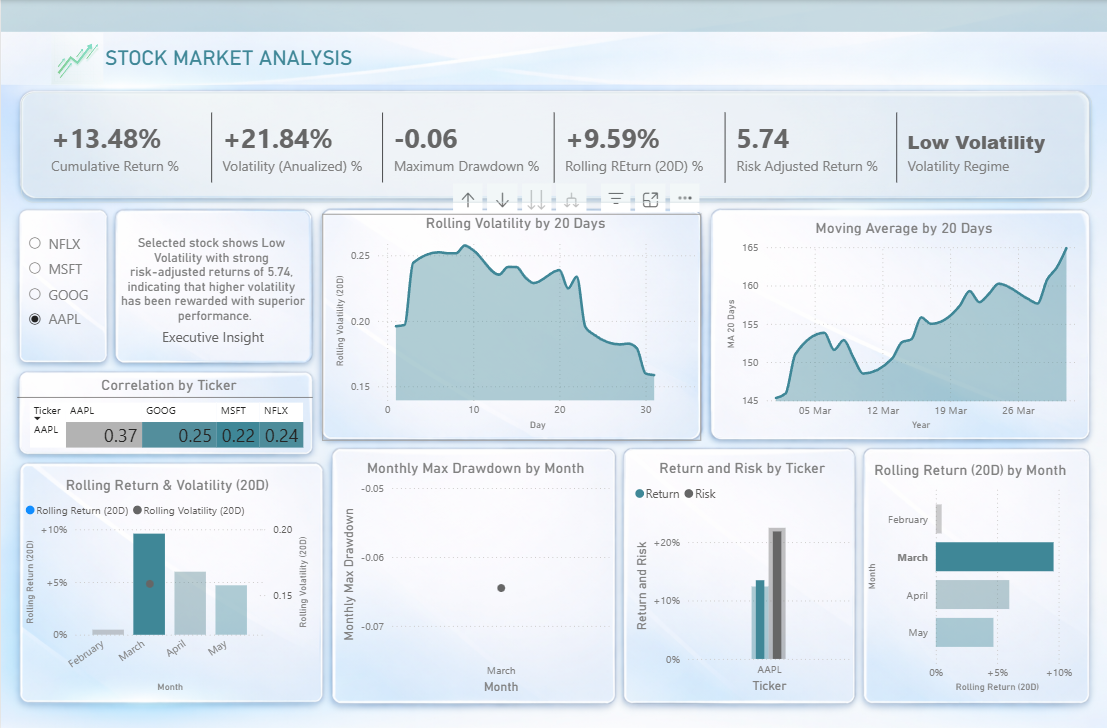

This screenshot's page, from the dashboard's own definition file:
{"tool":"powerbi","page":{"name":"Page 1","canvas":[1280,848],"ordinal":0},"visuals":[{"type":"slicer","fields":{"Values":["stocks.Ticker"]},"box":[19.2,247.7,103.1,174.6],"z":0},{"type":"clusteredColumnChart","fields":{"Category":["stocks.Ticker"],"Y":["stocks.Cumulative Return %","stocks.Volatility (Annualised)"]},"box":[721.1,522.2,265.6,290],"z":1000},{"type":"lineChart","title":"Moving Average by 20 Days","fields":{"Y":["stocks.MA 20 Days"],"Category":["stocks.Date.Variation.Date Hierarchy.Year","stocks.Date.Variation.Date Hierarchy.Quarter","stocks.Date.Variation.Date Hierarchy.Month","stocks.Date.Variation.Date Hierarchy.Day"]},"box":[823.3,252.5,431.7,250],"z":2000},{"type":"pivotTable","title":"Correlation by Ticker","fields":{"Rows":["stocks.Ticker"],"Columns":["Tickers_2.Ticker"],"Values":["stocks.Correlation"]},"box":[19.4,418.8,341.9,120],"z":3000},{"type":"clusteredBarChart","fields":{"Category":["stocks.Date.Variation.Date Hierarchy.Year","stocks.Date.Variation.Date Hierarchy.Quarter","stocks.Date.Variation.Date Hierarchy.Month","stocks.Date.Variation.Date Hierarchy.Day"],"Y":["stocks.Rolling Return (20D)"]},"box":[997.8,521.1,257.8,291.1],"z":4000},{"type":"lineChart","title":"Rolling Volatility by 20 Days","fields":{"Category":["stocks.Date.Variation.Date Hierarchy.Year","stocks.Date.Variation.Date Hierarchy.Quarter","stocks.Date.Variation.Date Hierarchy.Month","stocks.Date.Variation.Date Hierarchy.Day"],"Y":["stocks.Rolling Volatility (20D)"]},"box":[370.9,247.3,438.2,262.7],"z":5000},{"type":"lineClusteredColumnComboChart","title":"Rolling Return & Volatility (20D)","fields":{"Category":["stocks.Date.Variation.Date Hierarchy.Year","stocks.Date.Variation.Date Hierarchy.Quarter","stocks.Date.Variation.Date Hierarchy.Month","stocks.Date.Variation.Date Hierarchy.Day"],"Y":["stocks.Rolling Return (20D)"],"Y2":["stocks.Rolling Volatility (20D)"]},"box":[22.5,538.8,348.8,273.8],"z":6000},{"type":"card","fields":{"Values":["stocks.Executive Insight"]},"box":[132.3,247.7,224.6,171.5],"z":7000},{"type":"lineChart","fields":{"Category":["stocks.Date.Variation.Date Hierarchy.Year","stocks.Date.Variation.Date Hierarchy.Quarter","stocks.Date.Variation.Date Hierarchy.Month","stocks.Date.Variation.Date Hierarchy.Day"],"Y":["stocks.Monthly Max Drawdown"]},"box":[383.3,521.1,325.6,291.1],"z":8000},{"type":"cardVisual","fields":{"Data":["stocks.Cumulative Return %","stocks.Volatility (Annualised)","stocks.Maximum Drawdown %","stocks.Rolling Return (20D)","stocks.Risk Adjusted Return (Fixed)","stocks.Volatility Regime"]},"box":[22.5,106.7,1238.3,127.5],"z":9000},{"type":"textbox","box":[78.3,48.3,333.3,40],"z":10000},{"type":"shape","box":[0,0,1280,37.1],"z":10001},{"type":"image","box":[52.9,37.1,70,60],"z":10002}]}

Visuals, with their boxes in screenshot pixels (x1, y1, x2, y2), scaled from the page's 1280x848 canvas onto the 1107x728 screenshot:
slicer - stocks.Ticker: 17, 213, 106, 363
clusteredColumnChart - stocks.Ticker x stocks.Cumulative Return %: 624, 448, 853, 697
"Moving Average by 20 Days" lineChart: 712, 217, 1085, 431
"Correlation by Ticker" pivotTable: 17, 360, 312, 463
clusteredBarChart - stocks.Date.Variation.Date Hierarchy.Year x stocks.Date.Variation.Date Hierarchy.Quarter: 863, 447, 1086, 697
"Rolling Volatility by 20 Days" lineChart: 321, 212, 700, 438
"Rolling Return & Volatility (20D)" lineClusteredColumnComboChart: 19, 463, 321, 698
card - stocks.Executive Insight: 114, 213, 309, 360
lineChart - stocks.Date.Variation.Date Hierarchy.Year x stocks.Date.Variation.Date Hierarchy.Quarter: 331, 447, 613, 697
cardVisual - stocks.Cumulative Return % x stocks.Volatility (Annualised): 19, 92, 1090, 201
textbox: 68, 41, 356, 76
shape: 0, 0, 1106, 32
image: 46, 32, 106, 83
